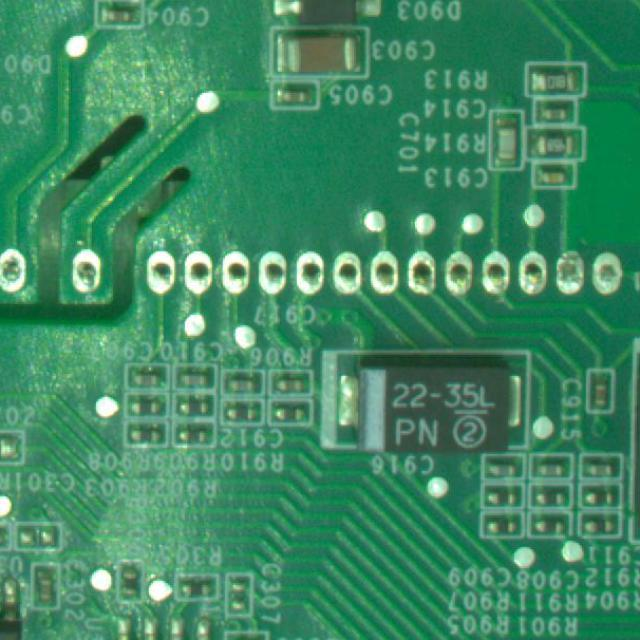Insufficient solder: (474, 240, 516, 299), (138, 237, 176, 300), (254, 242, 294, 295), (359, 240, 398, 294), (438, 238, 474, 294), (178, 244, 214, 298), (220, 238, 254, 294), (400, 244, 433, 297), (327, 240, 359, 294), (294, 242, 328, 292), (554, 249, 588, 296), (70, 240, 99, 294), (516, 246, 547, 294), (592, 250, 626, 290), (0, 250, 28, 294)
